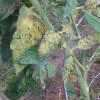Tomato Septoria leaf spot: (10, 16, 43, 77), (37, 29, 65, 62), (61, 56, 78, 87), (75, 35, 96, 53)
